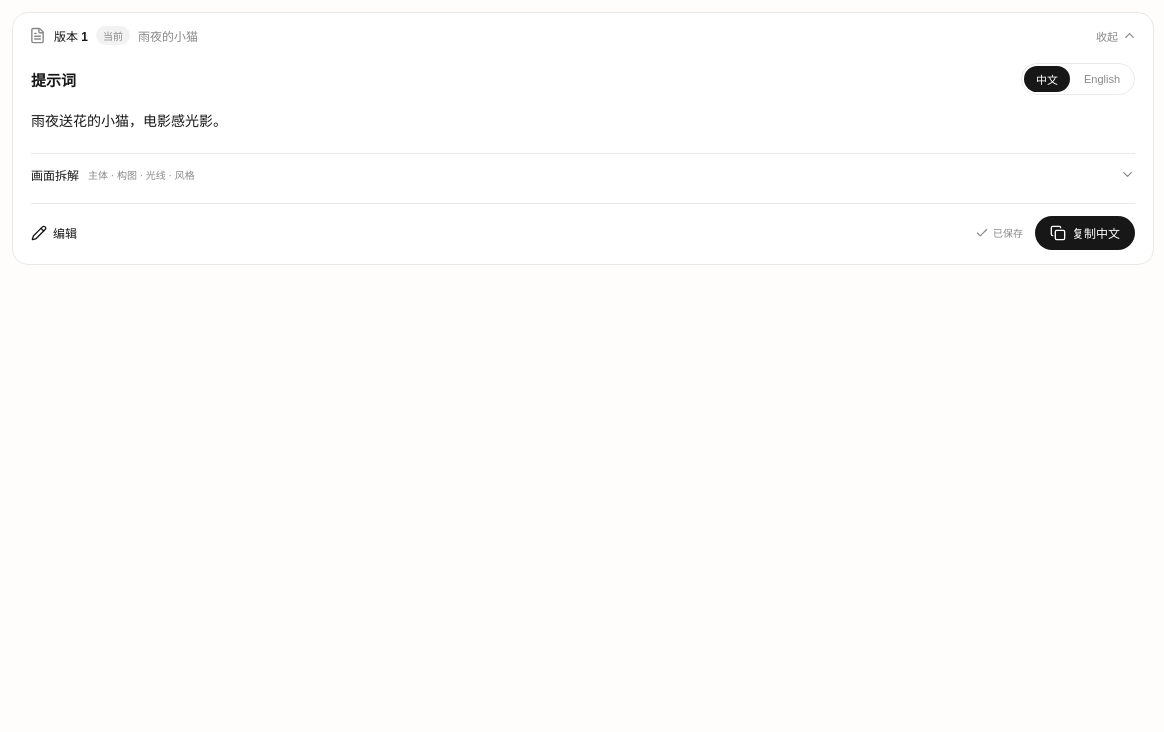
Test: version-specific creation result › shows creative points or image breakdown through an accessible disclosure
Expected: the text "花束品种未确定" is not shown
Click the button "画面拆解 主体 · 构图 · 光线 · 风格" at (55, 176), box [31,154,1135,195]
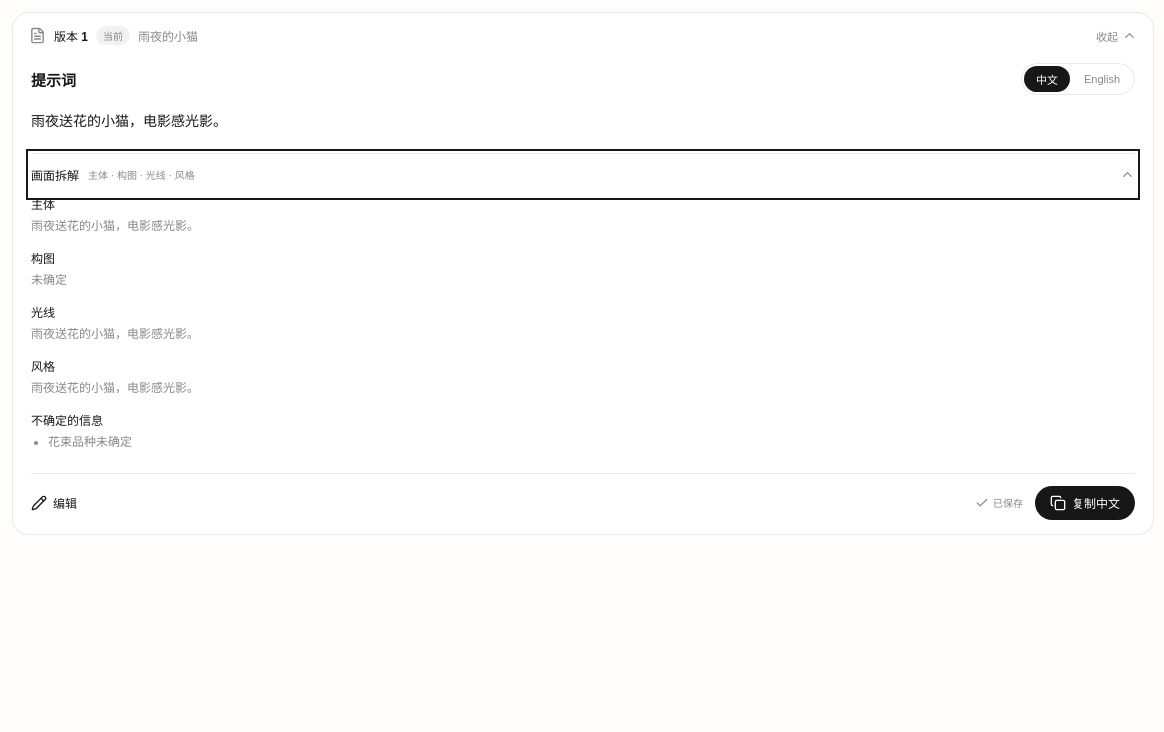
Expected: the list item "花束品种未确定" is shown, [48,435,132,449]
Expected: the text "未确定" is shown, [31,273,67,287]
